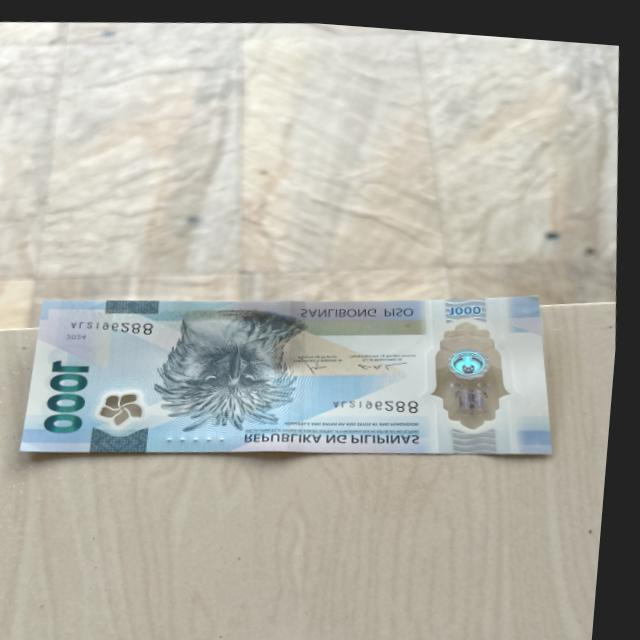clear_window: (430, 307, 516, 428)
eagle: (168, 297, 316, 432)
sampaguita: (103, 386, 155, 425)
